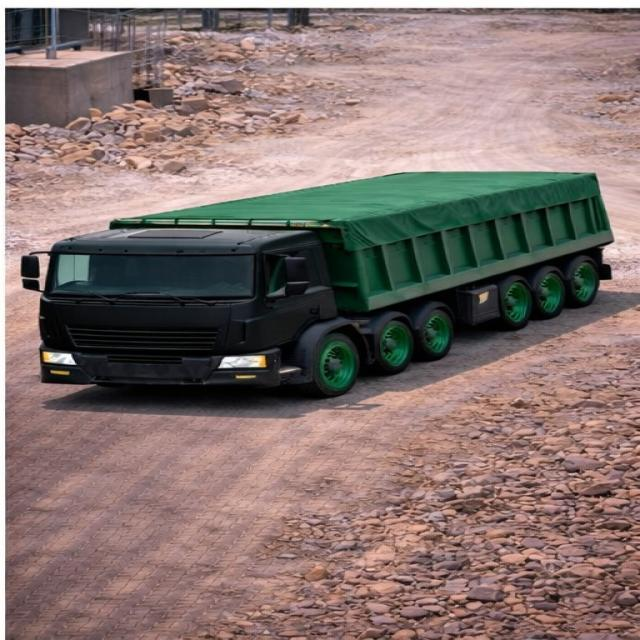trailer: (83, 162, 598, 227)
truck: (20, 146, 612, 407)
